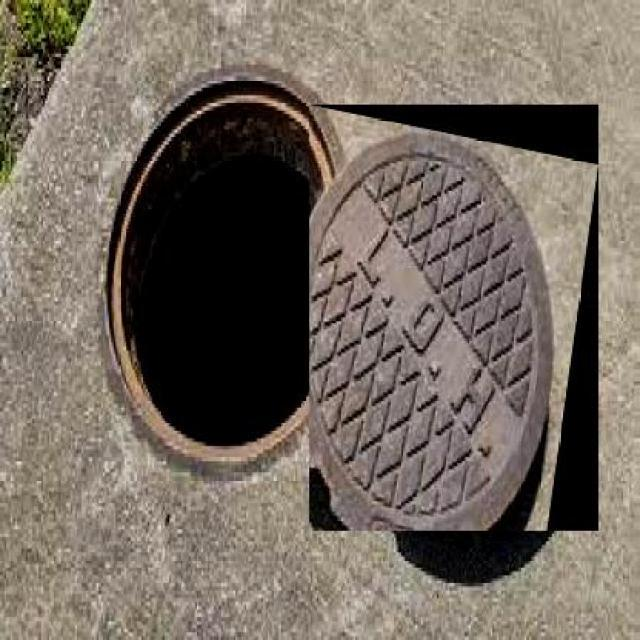Manhole: (310, 104, 599, 530)
Open Manhole: (100, 68, 351, 480)
